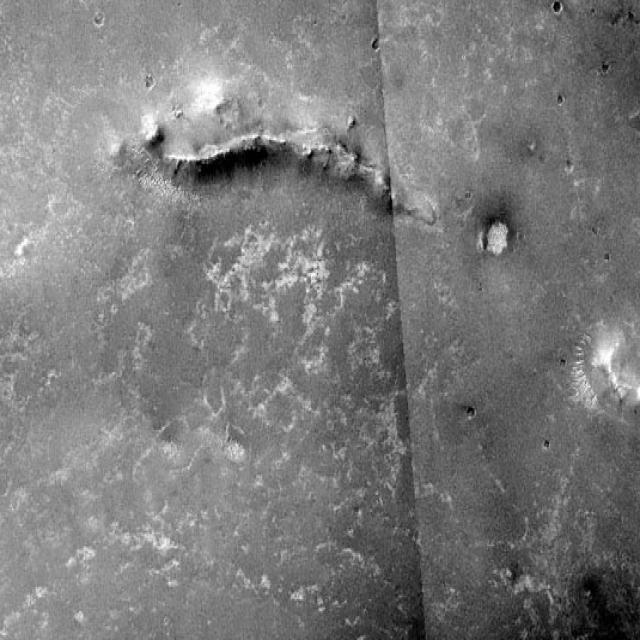Crater: (0, 15, 640, 640), (471, 193, 531, 285)
